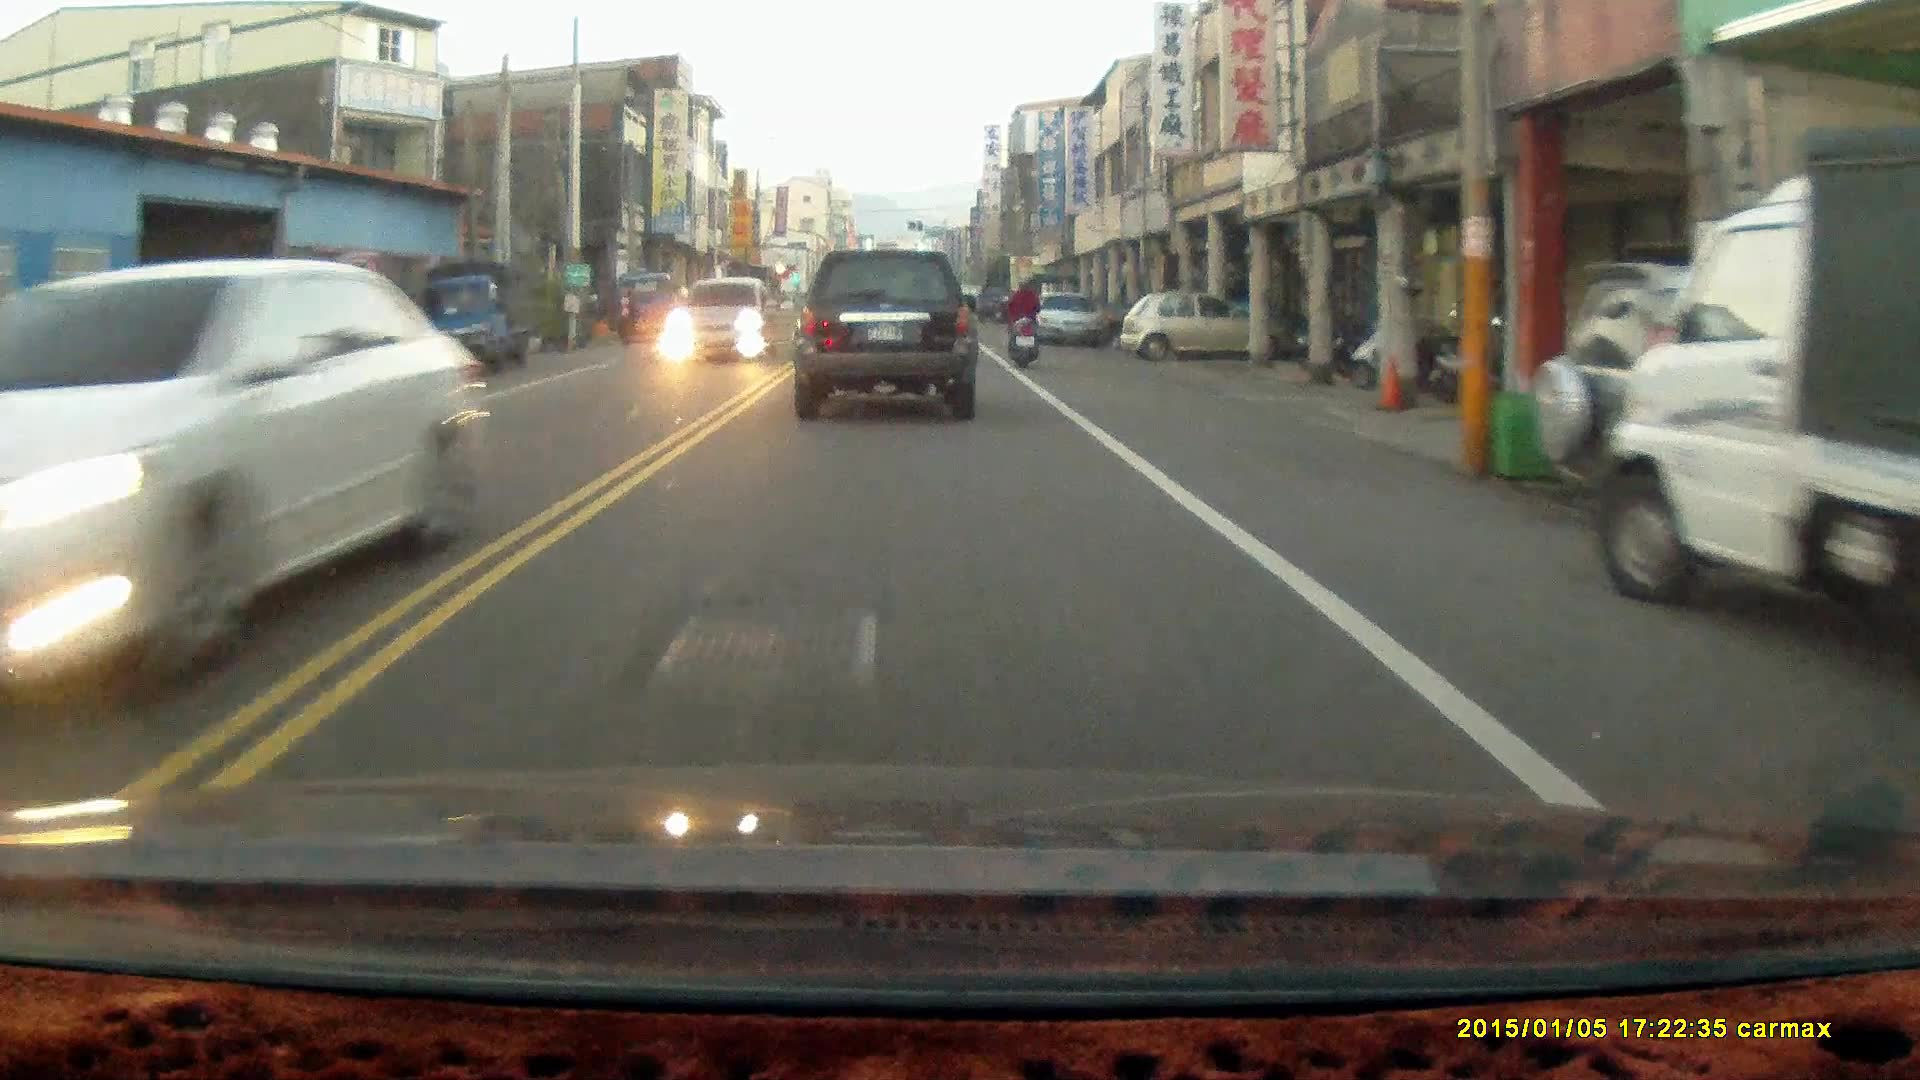pedestrian: (615, 287, 635, 348)
rider: (1005, 277, 1042, 372)
vehicle: (1, 263, 477, 711), (1596, 120, 1920, 680), (1530, 268, 1919, 535), (787, 255, 981, 429), (407, 268, 548, 382), (1120, 297, 1269, 369), (667, 281, 783, 368), (1032, 295, 1107, 350)
